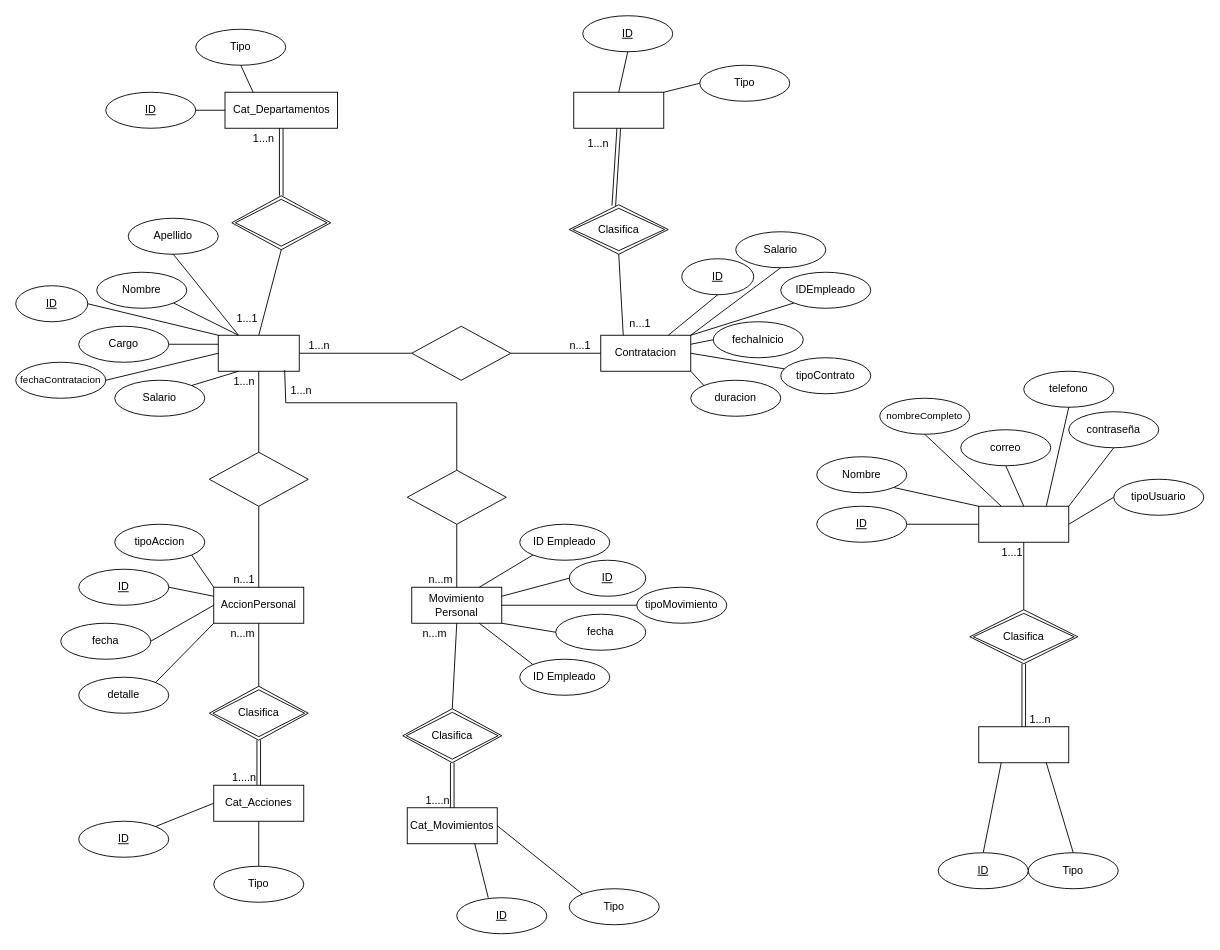
Image size: 1220x950. Some labels were removed from this diagram. The shapes that lost their labels are listed below. From the top down, each one's centre as x and y in pixels, then its label:
(x=618, y=109): Cat_Contrato
(x=281, y=222): Asignado
(x=258, y=352): Empleado
(x=461, y=352): Genera
(x=258, y=478): Solicita
(x=456, y=496): Asciende
(x=1023, y=523): Usuario
(x=1023, y=744): Cat_Usuario
